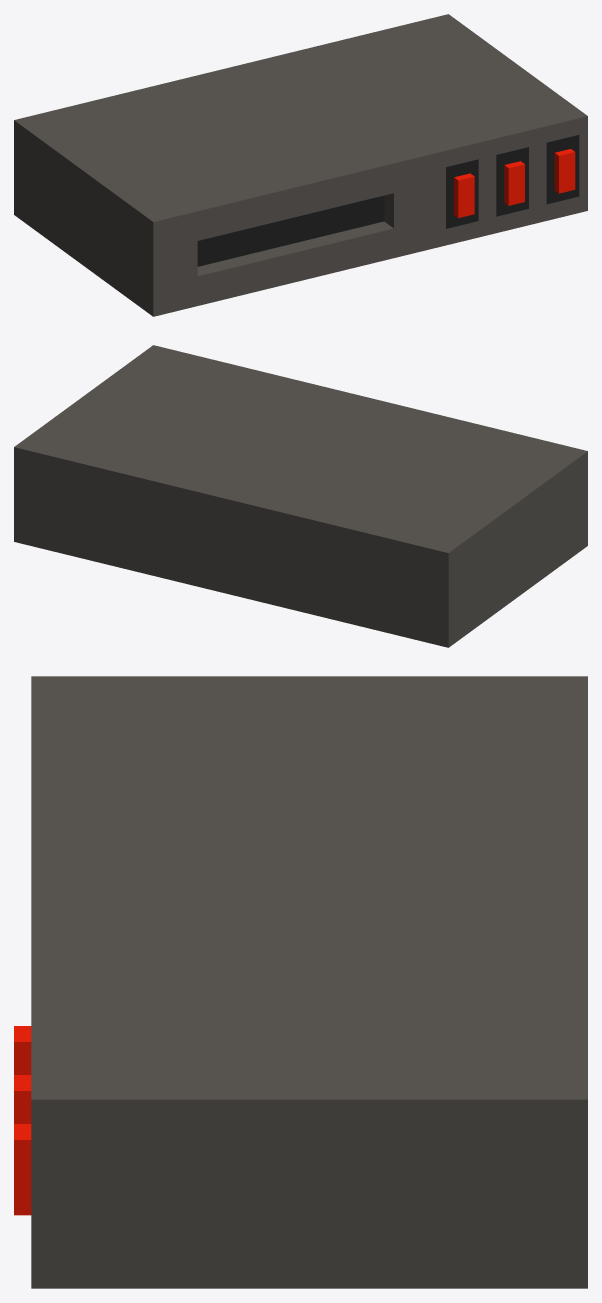
The model's file is VHSPlayer1.fbx.
3 renders of one model, top to bottom at view 1: azimuth 30°, elevation 25°; view 2: azimuth 150°, elevation 25°; view 3: azimuth 270°, elevation 25°, orthographic. The views are drawn at different scales.
Visible parts, largest first — view 1: VHSPlayer; view 2: VHSPlayer; view 3: VHSPlayer.
Part boxes in pixels (x1,y1,x2,y2): VHSPlayer: [14, 14, 587, 316]; VHSPlayer: [14, 345, 587, 647]; VHSPlayer: [14, 676, 587, 1288].
Bounding box in the file's own units: 72 × 15 × 41.25.
